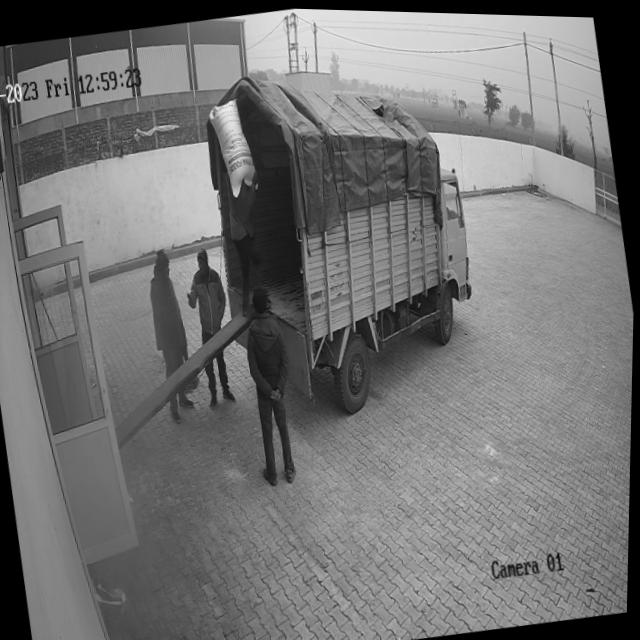sack: (205, 94, 260, 199)
